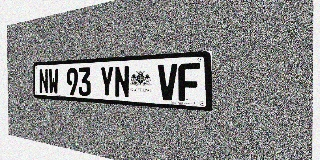3: (78, 67, 91, 96)
9: (67, 68, 78, 96)
F: (178, 63, 200, 102)
N: (114, 65, 130, 98), (39, 69, 48, 94)
V: (158, 64, 177, 101)
W: (48, 68, 58, 95)
Y: (100, 66, 114, 97)
